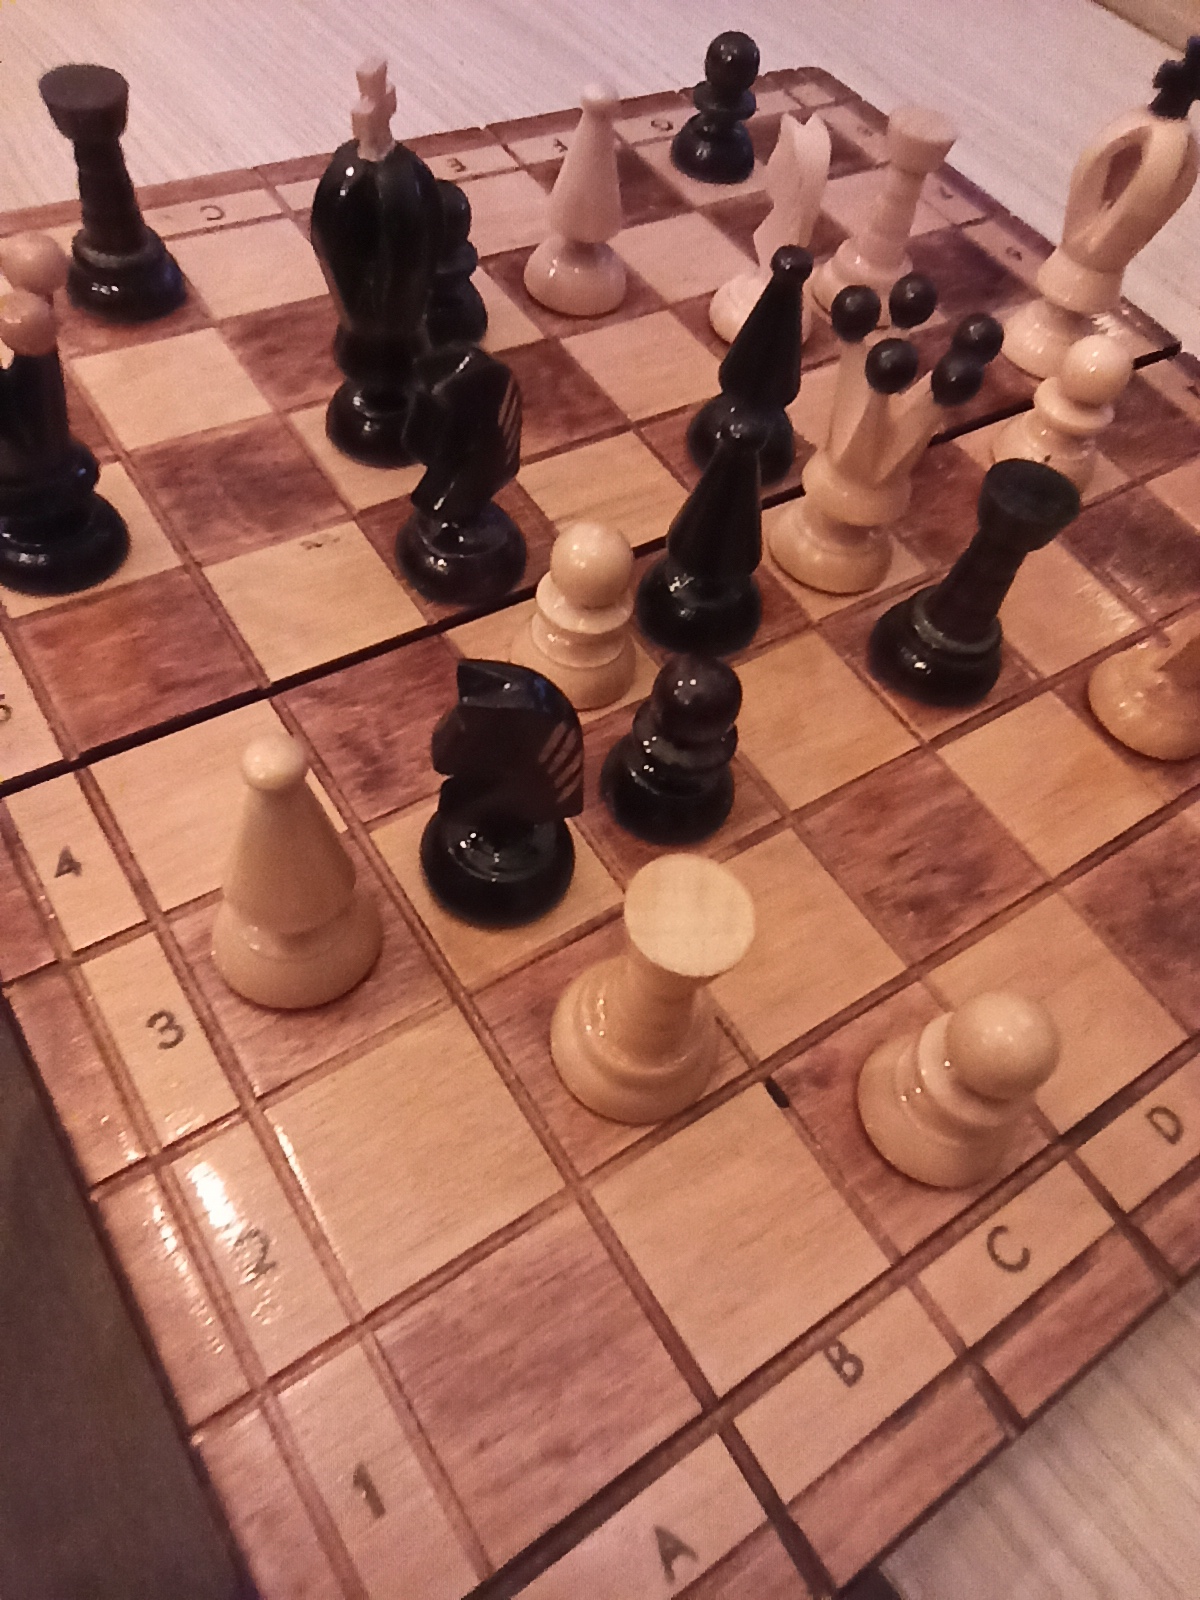bbishop: (640, 427, 792, 669), (689, 246, 821, 483)
bking: (309, 52, 450, 471)
bknight: (421, 663, 587, 941), (400, 346, 534, 609)
bpawn: (599, 655, 746, 850), (669, 30, 766, 185)
bqueen: (1, 234, 131, 598)
brook: (871, 457, 1074, 716), (39, 64, 190, 319)
wbishop: (213, 736, 379, 1009), (526, 81, 638, 316)
wking: (1000, 34, 1200, 373)
wpawn: (858, 988, 1064, 1191), (511, 517, 655, 716), (993, 335, 1136, 495)
wqueen: (769, 278, 998, 597)
wrook: (548, 854, 755, 1131)
